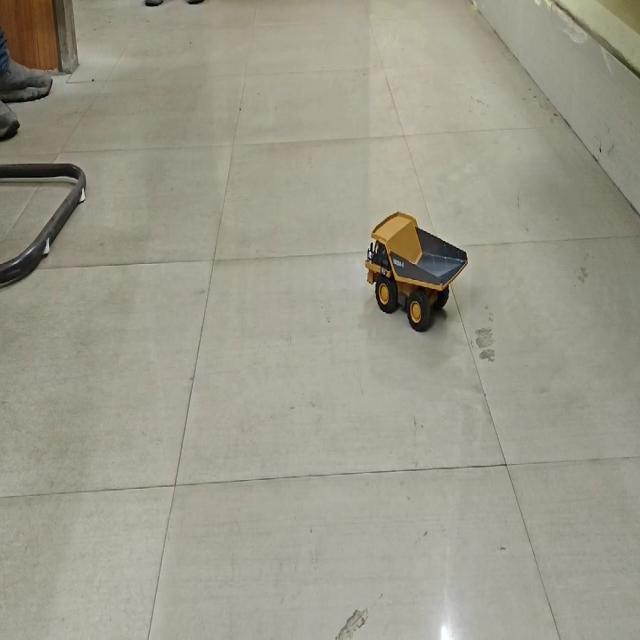dump_truck: (360, 206, 470, 330)
